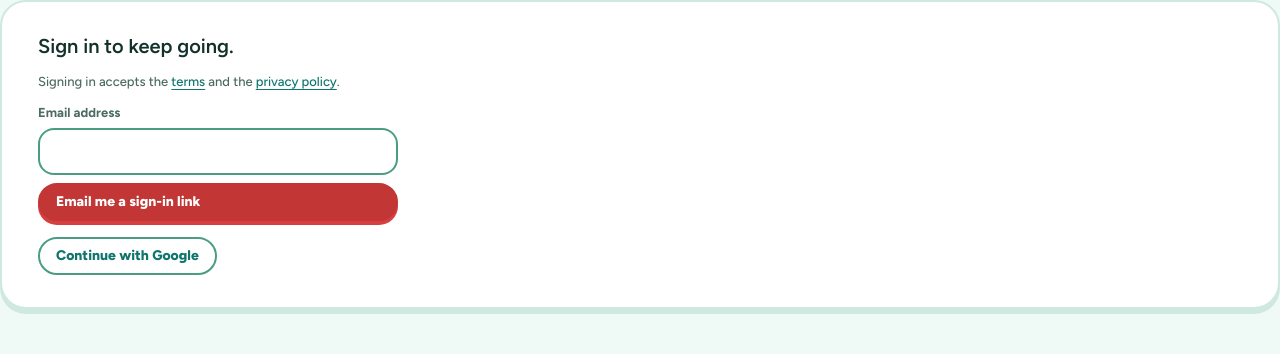
SignInPanelComponent › names google as the alternative when email sign-in is unavailable at submit time
The image size is (1280, 354).
In the field with id "sign-in-email": (218, 152) [38,128,398,175], type "learner@example.com"
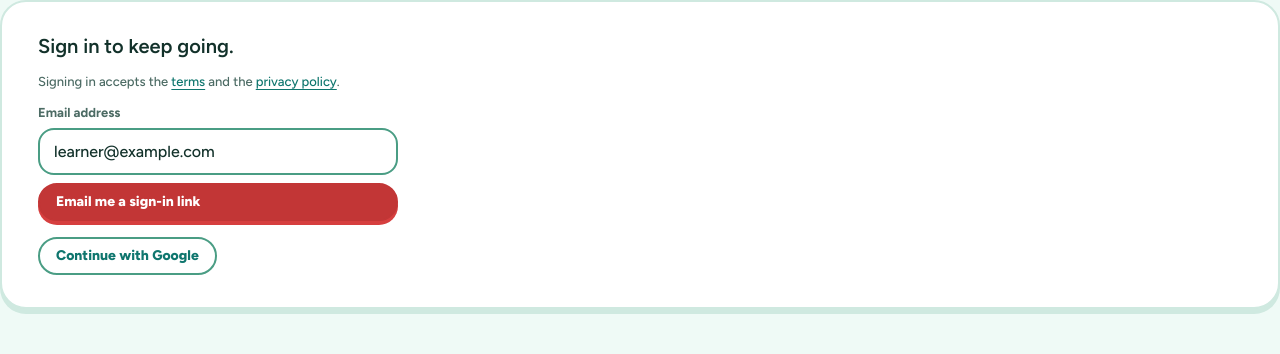
Submit the form, box [38,105,398,221]
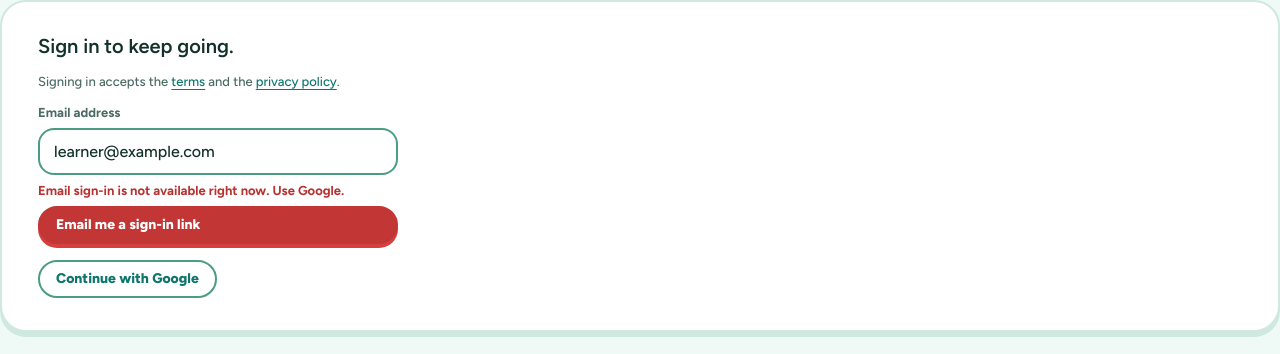
Result: the text "Email sign-in is not available right now. Use Google." is shown at [38,183,398,198]
